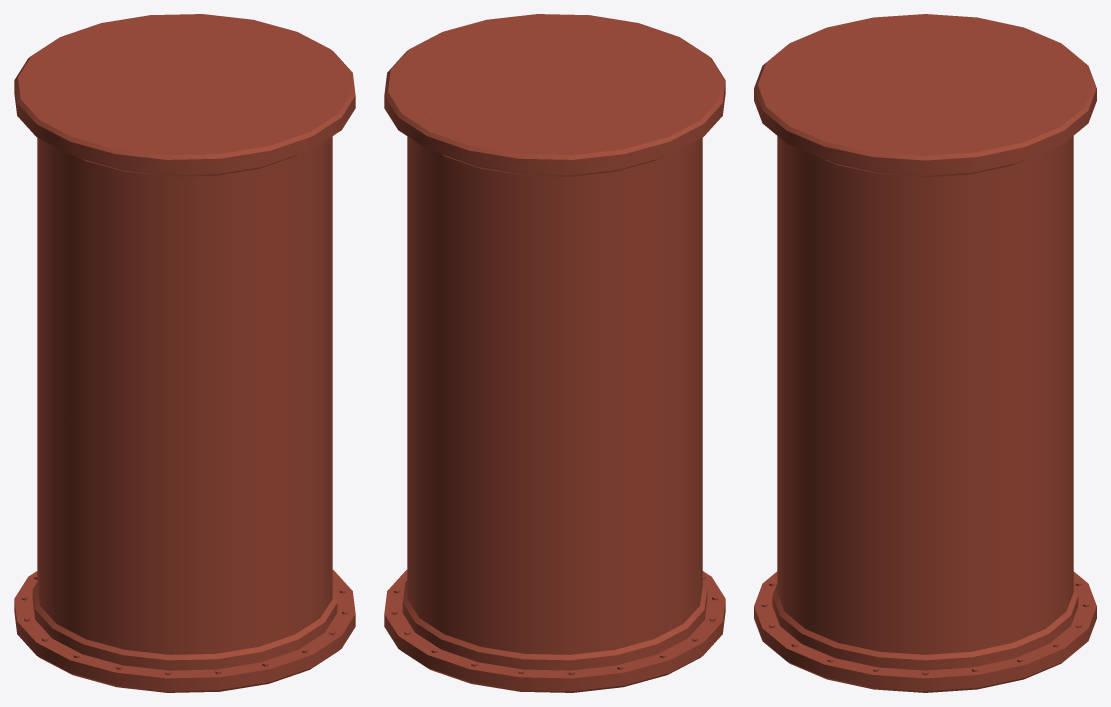
The model's file is Pipe_2m.fbx.
3 renders of one model, left to right at view 1: azimuth 30°, elevation 25°; view 2: azimuth 150°, elevation 25°; view 3: azimuth 270°, elevation 25°, orthographic.
Parts seen in each view (by area): view 1: Pipe_2m2; view 2: Pipe_2m2; view 3: Pipe_2m2.
Boxes of the visible parts, left/top/right/bottom form: Pipe_2m2: left=14, top=14, right=355, bottom=692; Pipe_2m2: left=384, top=14, right=725, bottom=692; Pipe_2m2: left=754, top=14, right=1096, bottom=692.
Bounding box in the file's own units: 0.5785 × 1 × 0.5784.
